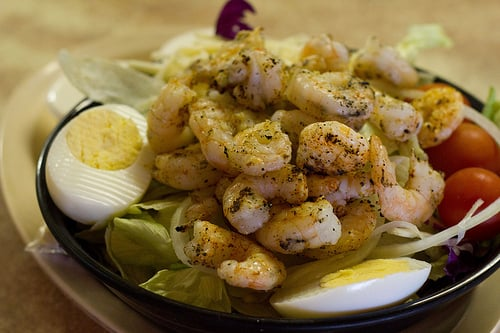salad: (270, 196, 500, 301)
sushi: (14, 1, 494, 328)
